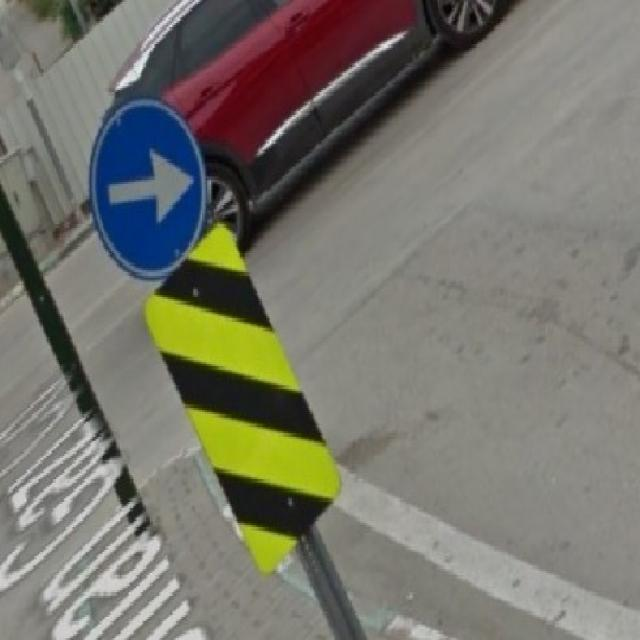Turn Right: (89, 98, 211, 274)
